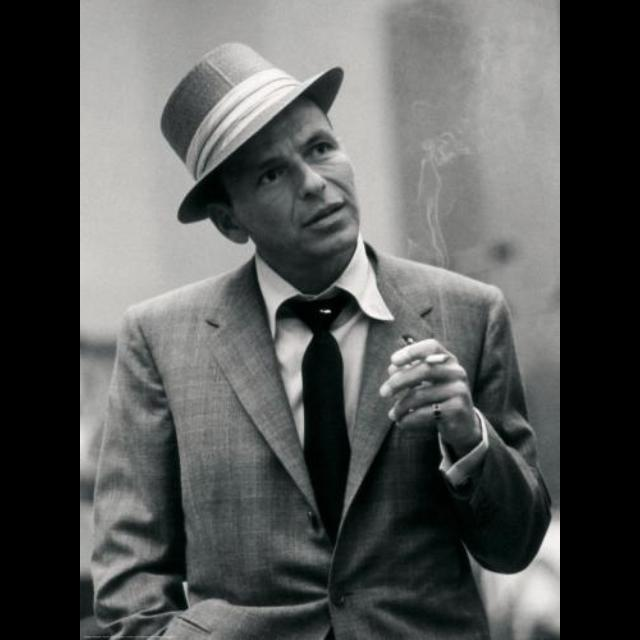rokok: (424, 350, 454, 366)
